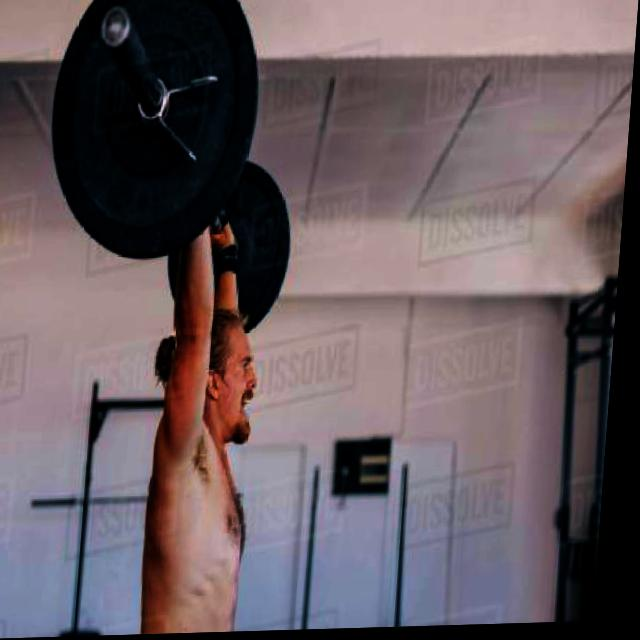barbell: (43, 1, 272, 268)
